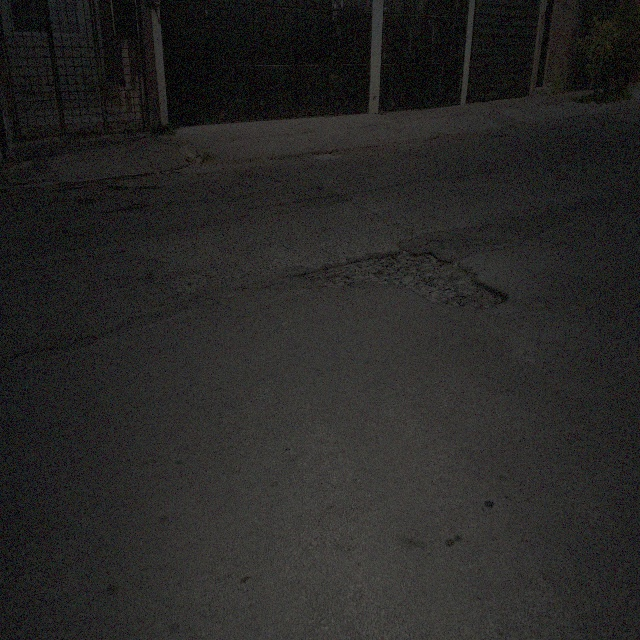pothole: (302, 238, 510, 312)
